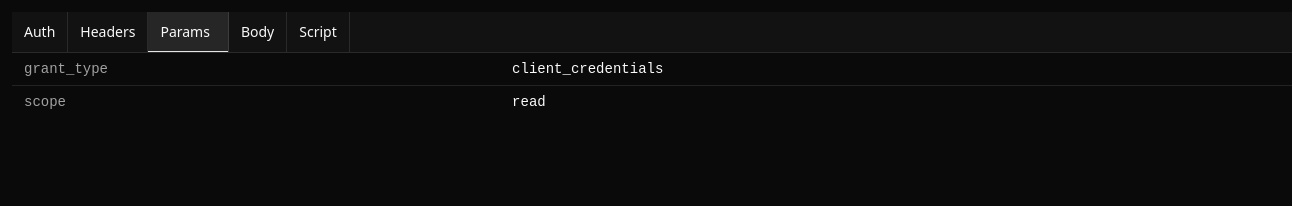
Test: RequestPane › should render a token field when the active request auth is bearer
Click the tab "Auth". click: (40, 32)
box: [12,12,68,52]
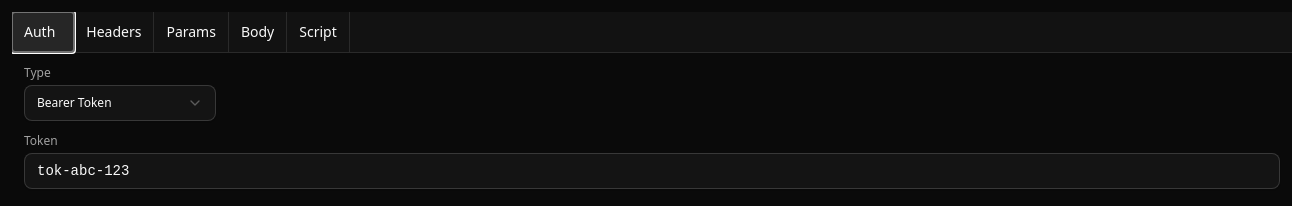
Expected: the field labelled "Token" holds "tok-abc-123", [24,153,1280,189]
